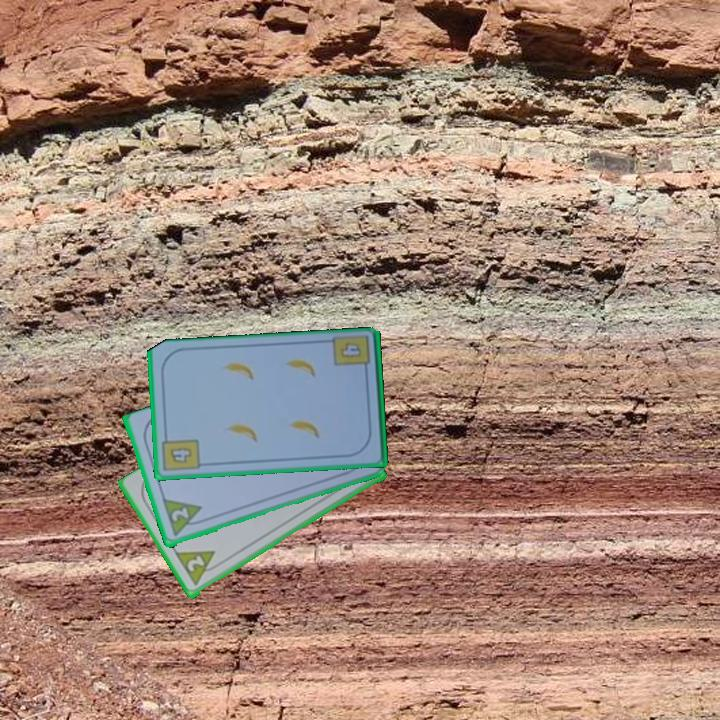2p: (159, 496, 208, 540), (183, 552, 208, 575)
4b: (159, 431, 203, 475), (337, 339, 364, 361)
